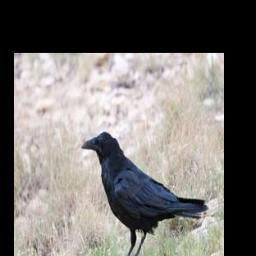Crow: (80, 130, 209, 256)
